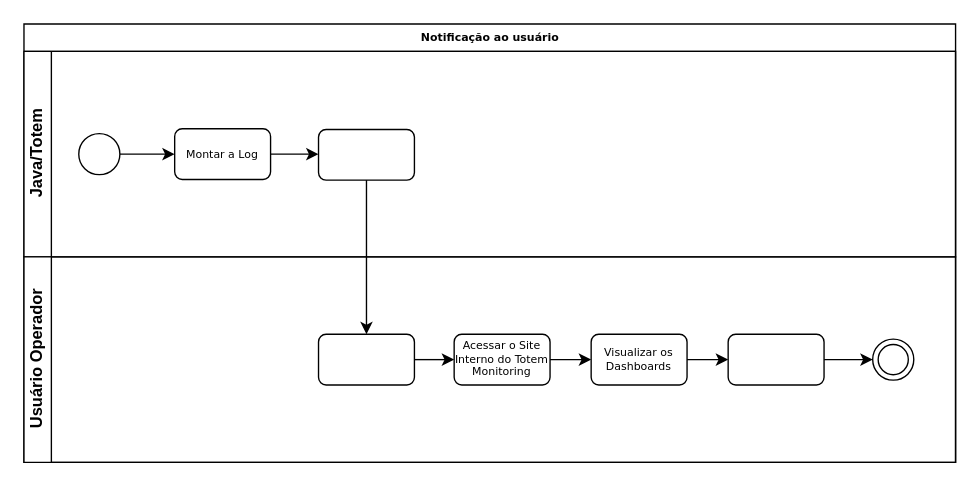
Some shapes in this 980 by 486 pixel diagram are drawn without their labels. The shapes that lost their labels are listed below. From the top down, each one's centre as x and y in pixels, then its label:
point 365,154: Enviar notificação no Slack
point 365,359: Visualizar notificação de Log no Slack
point 775,359: Analisar os Dashboards em conjunto as Logs
